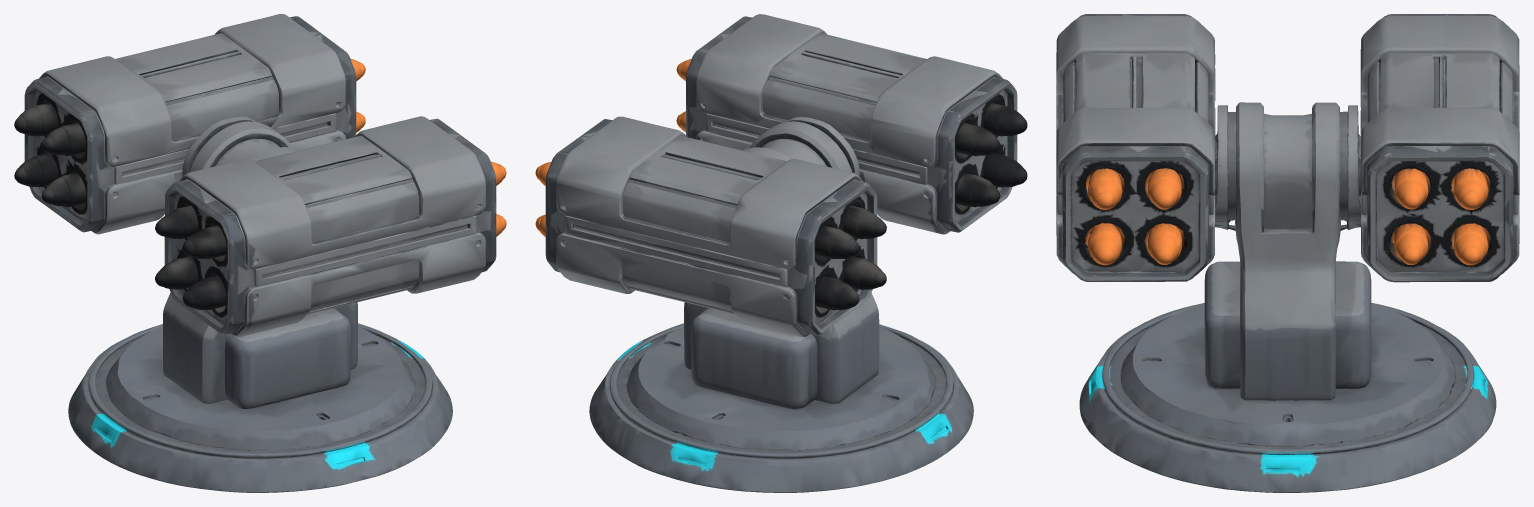
The model's file is town-rocket-full.glb.
3 renders of one model, left to right at view 1: azimuth 30°, elevation 25°; view 2: azimuth 150°, elevation 25°; view 3: azimuth 270°, elevation 25°, orthographic. The views are drawn at different scales.
Parts seen in each view (by area): view 1: town-rocket-full; view 2: town-rocket-full; view 3: town-rocket-full.
Part boxes in pixels (x1,y1,x2,y2): town-rocket-full: [14, 14, 506, 492]; town-rocket-full: [535, 14, 1027, 492]; town-rocket-full: [1056, 14, 1519, 492].
Size of the model in its own units: 3.24 by 2.81 by 3.6.
Materials: 1 (1 with a texture image).
